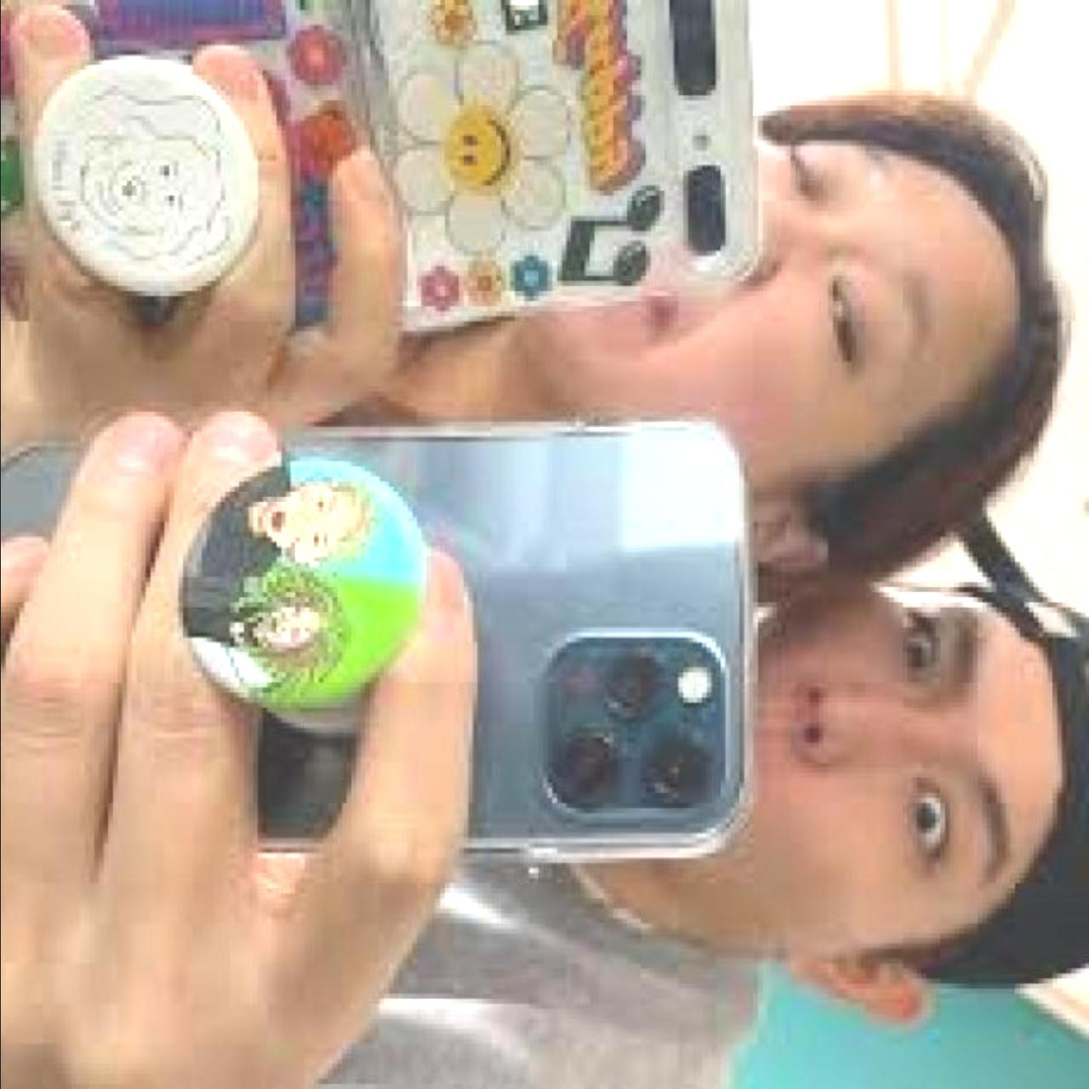phone: (0, 422, 762, 864), (37, 0, 769, 313)
